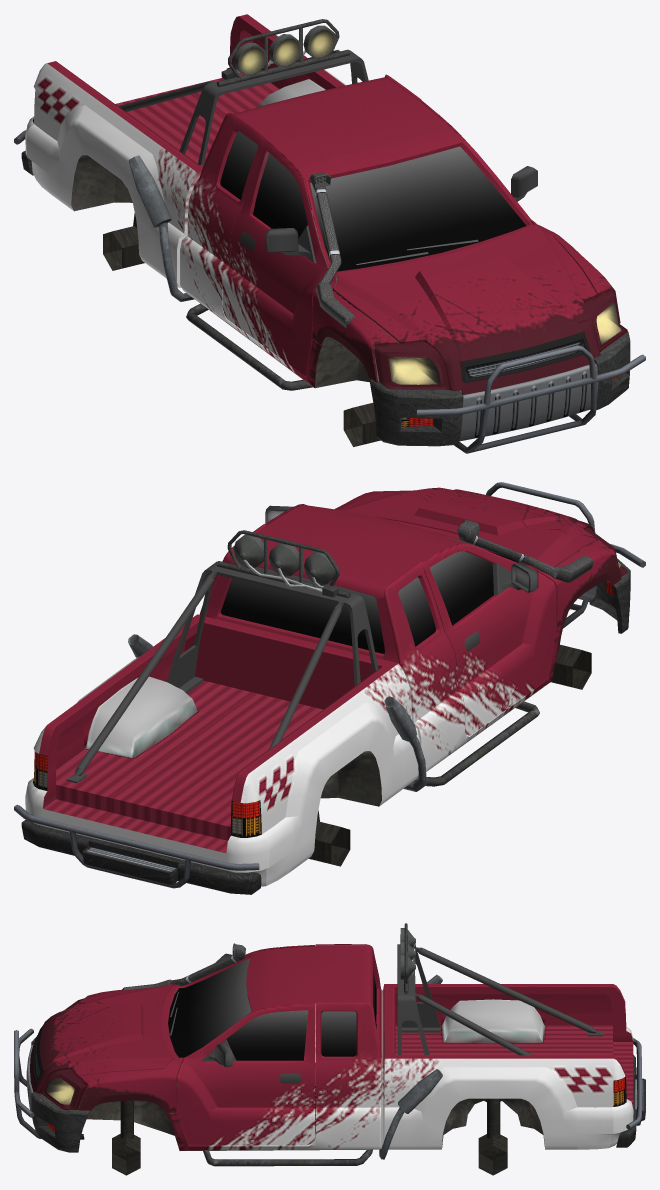
File: Truck.fbx
The picture shows the model from 3 angles, top to bottom: view 1: azimuth 30°, elevation 25°; view 2: azimuth 150°, elevation 25°; view 3: azimuth 270°, elevation 25°; orthographic projection. The views are drawn at different scales.
Parts seen in each view (by area): view 1: Truck_mesh; view 2: Truck_mesh; view 3: Truck_mesh.
Part boxes in pixels (x1,y1,x2,y2): Truck_mesh: (14, 14, 645, 453); Truck_mesh: (14, 482, 645, 894); Truck_mesh: (14, 923, 645, 1175).
Bounding box in the file's own units: 107 × 96.75 × 284.
